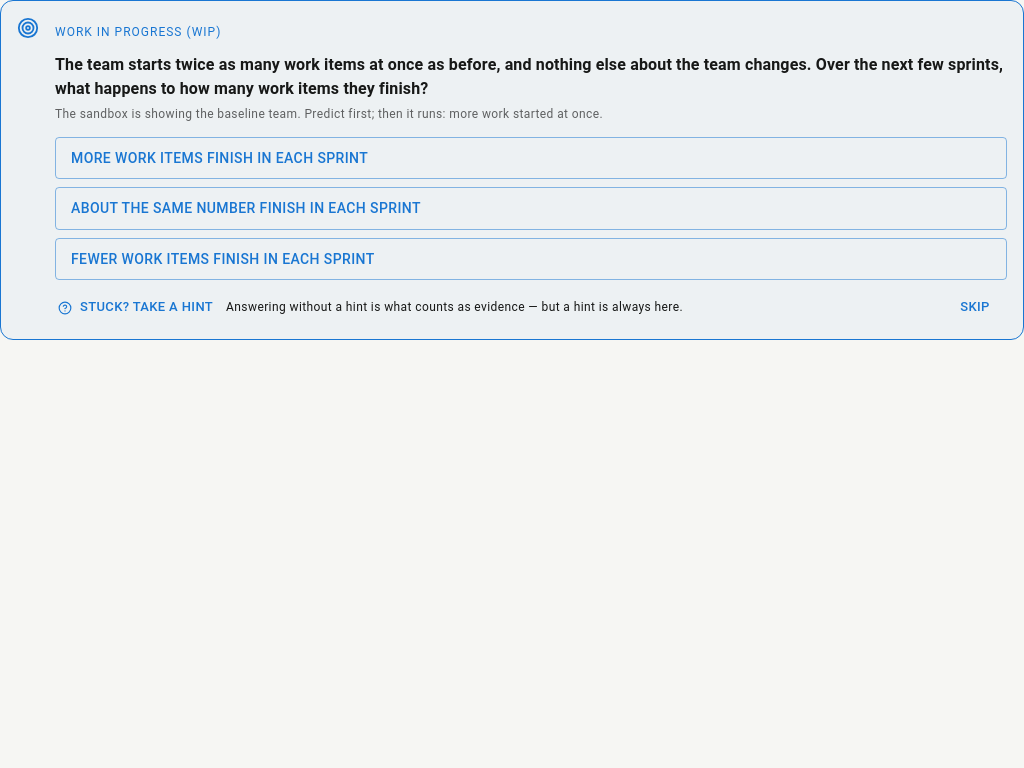
the guided loop › runs the change a prediction is about only after the prediction is committed
This screenshot has width=1024, height=768.
expect the text "Predict first; then it runs:" is shown: met, box left=55, top=107, right=603, bottom=121
Click the button "More work items finish in each sprint" at (220,158), box left=55, top=137, right=1007, bottom=179
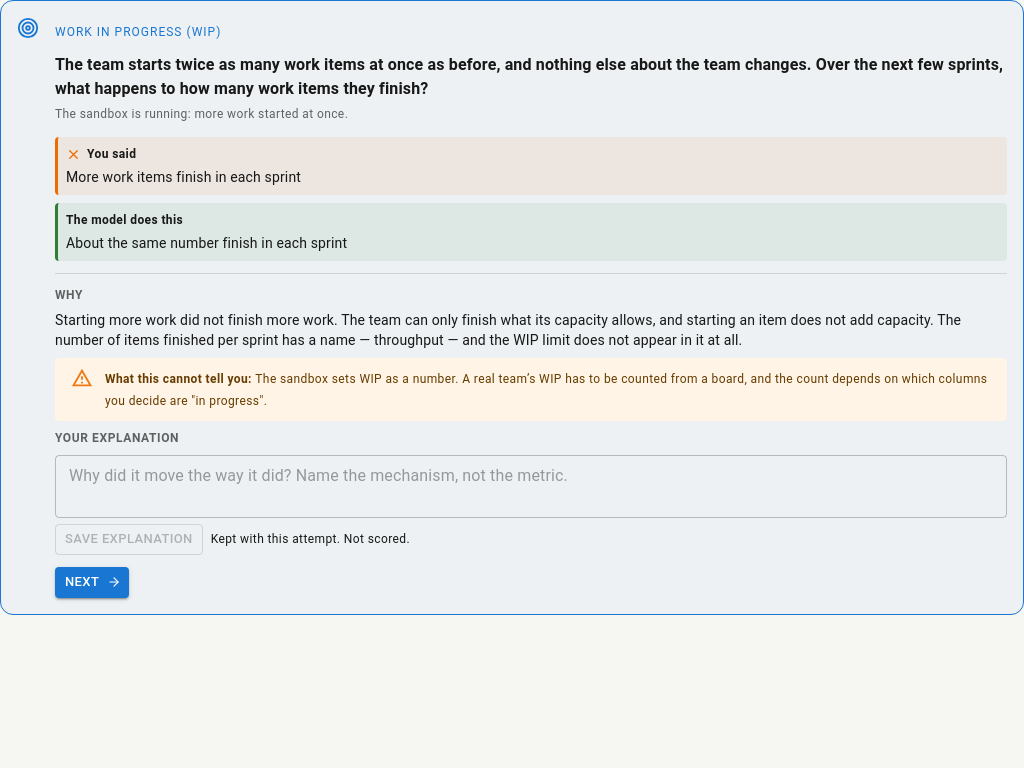
expect the text "The sandbox is running: more work started at once." is shown: met, box left=55, top=107, right=348, bottom=121
